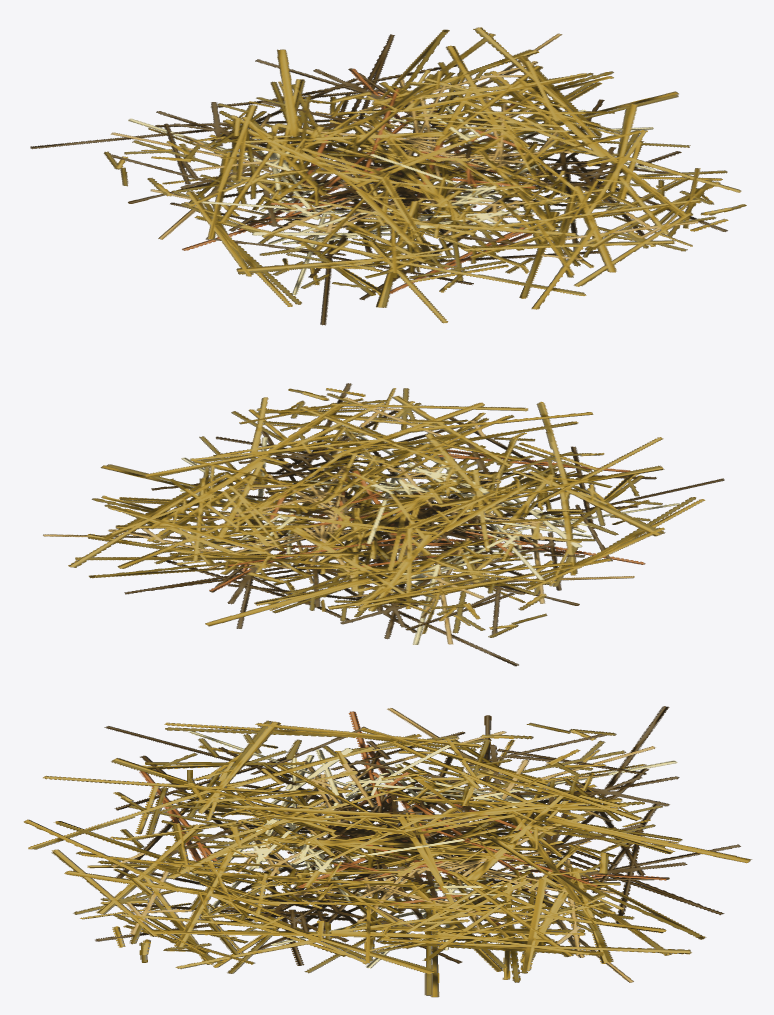
The model's file is slama1.FBX.
3 renders of one model, top to bottom at view 1: azimuth 30°, elevation 25°; view 2: azimuth 150°, elevation 25°; view 3: azimuth 270°, elevation 25°, orthographic. The views are drawn at different scales.
Parts seen in each view (by area): view 1: Slama001_LOD1, Slama001_LOD2; view 2: Slama001_LOD1, Slama001_LOD2; view 3: Slama001_LOD1, Slama001_LOD2.
Part boxes in pixels (x1,y1,x2,y2): Slama001_LOD1: [30, 27, 746, 325]; Slama001_LOD2: [128, 197, 443, 324]; Slama001_LOD1: [43, 383, 724, 666]; Slama001_LOD2: [547, 443, 723, 615]; Slama001_LOD1: [23, 706, 752, 997]; Slama001_LOD2: [44, 710, 531, 780].
Size of the model in its own units: 87.79 by 5.7e-15 by 93.08.
